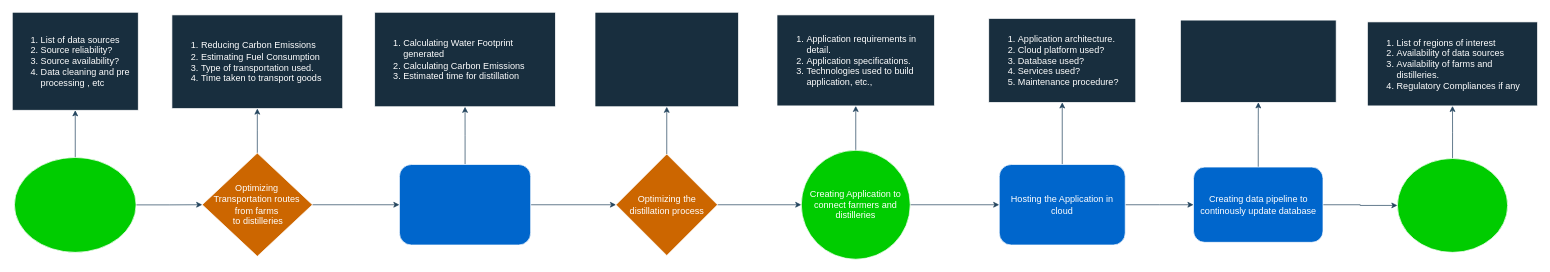
The diagram is 1550 pixels wide and 272 high, and some of its shapes have lost their labels. The shapes that lost their labels are listed below. From the top down, each one's centre as x and y in pixels, then its label:
At [666,59]: "Reducing the water footprint Reusing the by products after distillation".
At [1258,60]: "Update interval of database. Service used to deploy the data pipeline.,etc".
At [75,204]: "Collecting Data of Grape Farms, Distilleries and Wineries in New York".
At [465,204]: "Distillation of grapes".
At [1452,205]: "Expansion of application to other regions".
